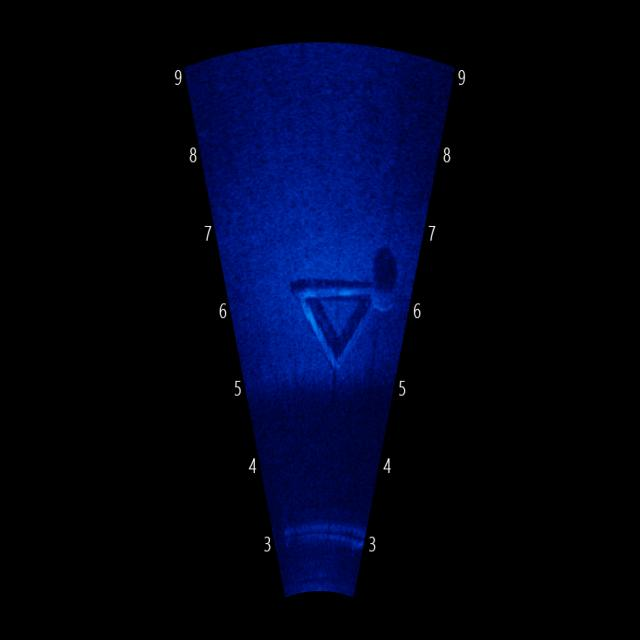triangle: (287, 252, 382, 388)
